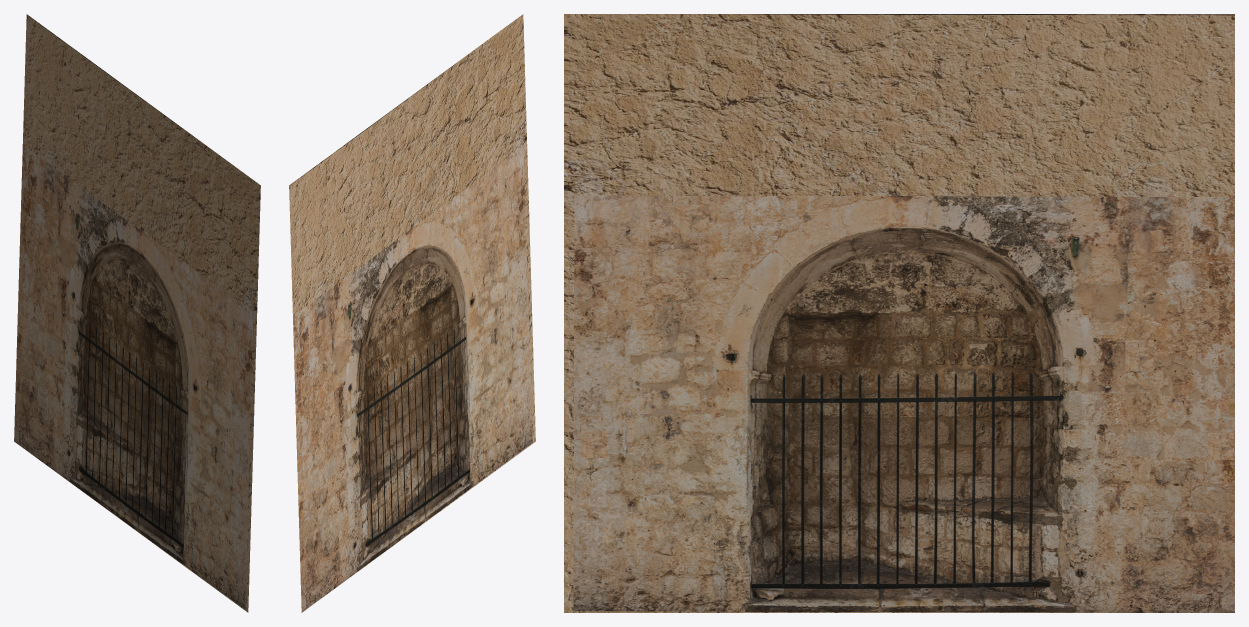
The model's file is colosseumgate.fbx.
The picture shows the model from 3 angles, left to right: view 1: azimuth 30°, elevation 25°; view 2: azimuth 150°, elevation 25°; view 3: azimuth 270°, elevation 25°; orthographic projection. The views are drawn at different scales.
Visible parts, largest first — view 1: Plane; view 2: Plane; view 3: Plane.
Part boxes in pixels (box(x1,y1,x2,y2)): Plane: box(14, 14, 260, 612); Plane: box(289, 14, 535, 612); Plane: box(564, 14, 1234, 612).
Bounding box in the file's own units: 6.2 × 200 × 200.
1 material, 1 textured.
